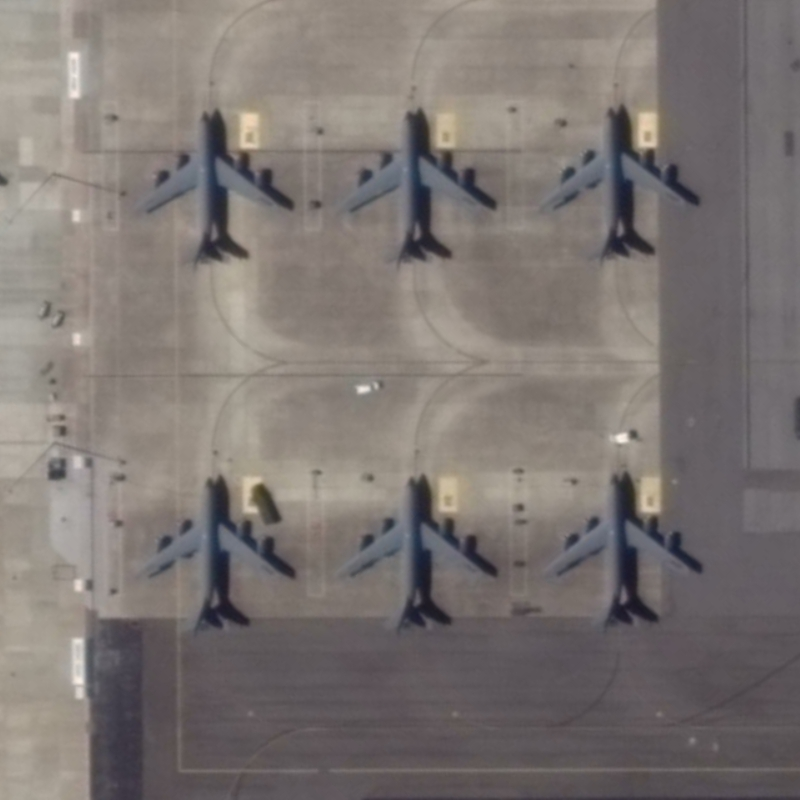A14: (332, 105, 500, 275), (331, 471, 493, 636), (536, 470, 696, 633), (533, 104, 690, 266), (130, 106, 282, 271), (132, 475, 286, 637)
